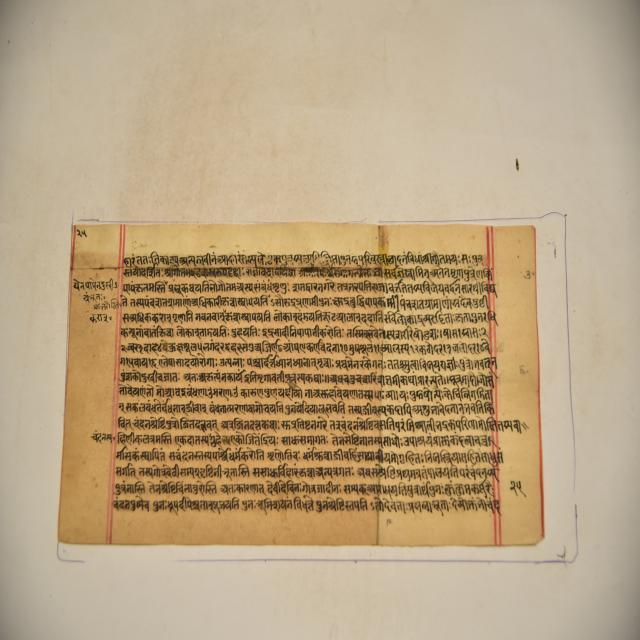text_paragraph: (56, 223, 541, 548)
